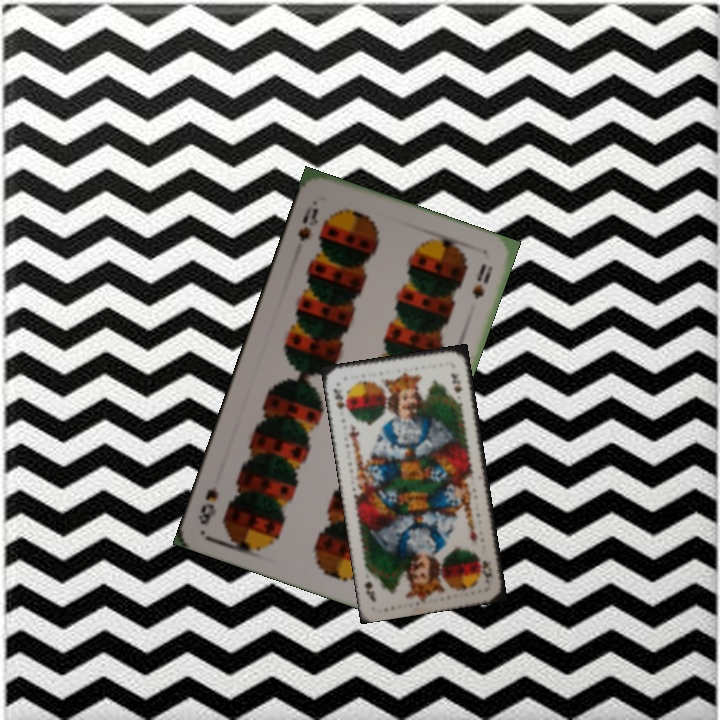S8: (294, 202, 321, 244)
SK: (330, 385, 351, 415), (477, 557, 495, 584)
